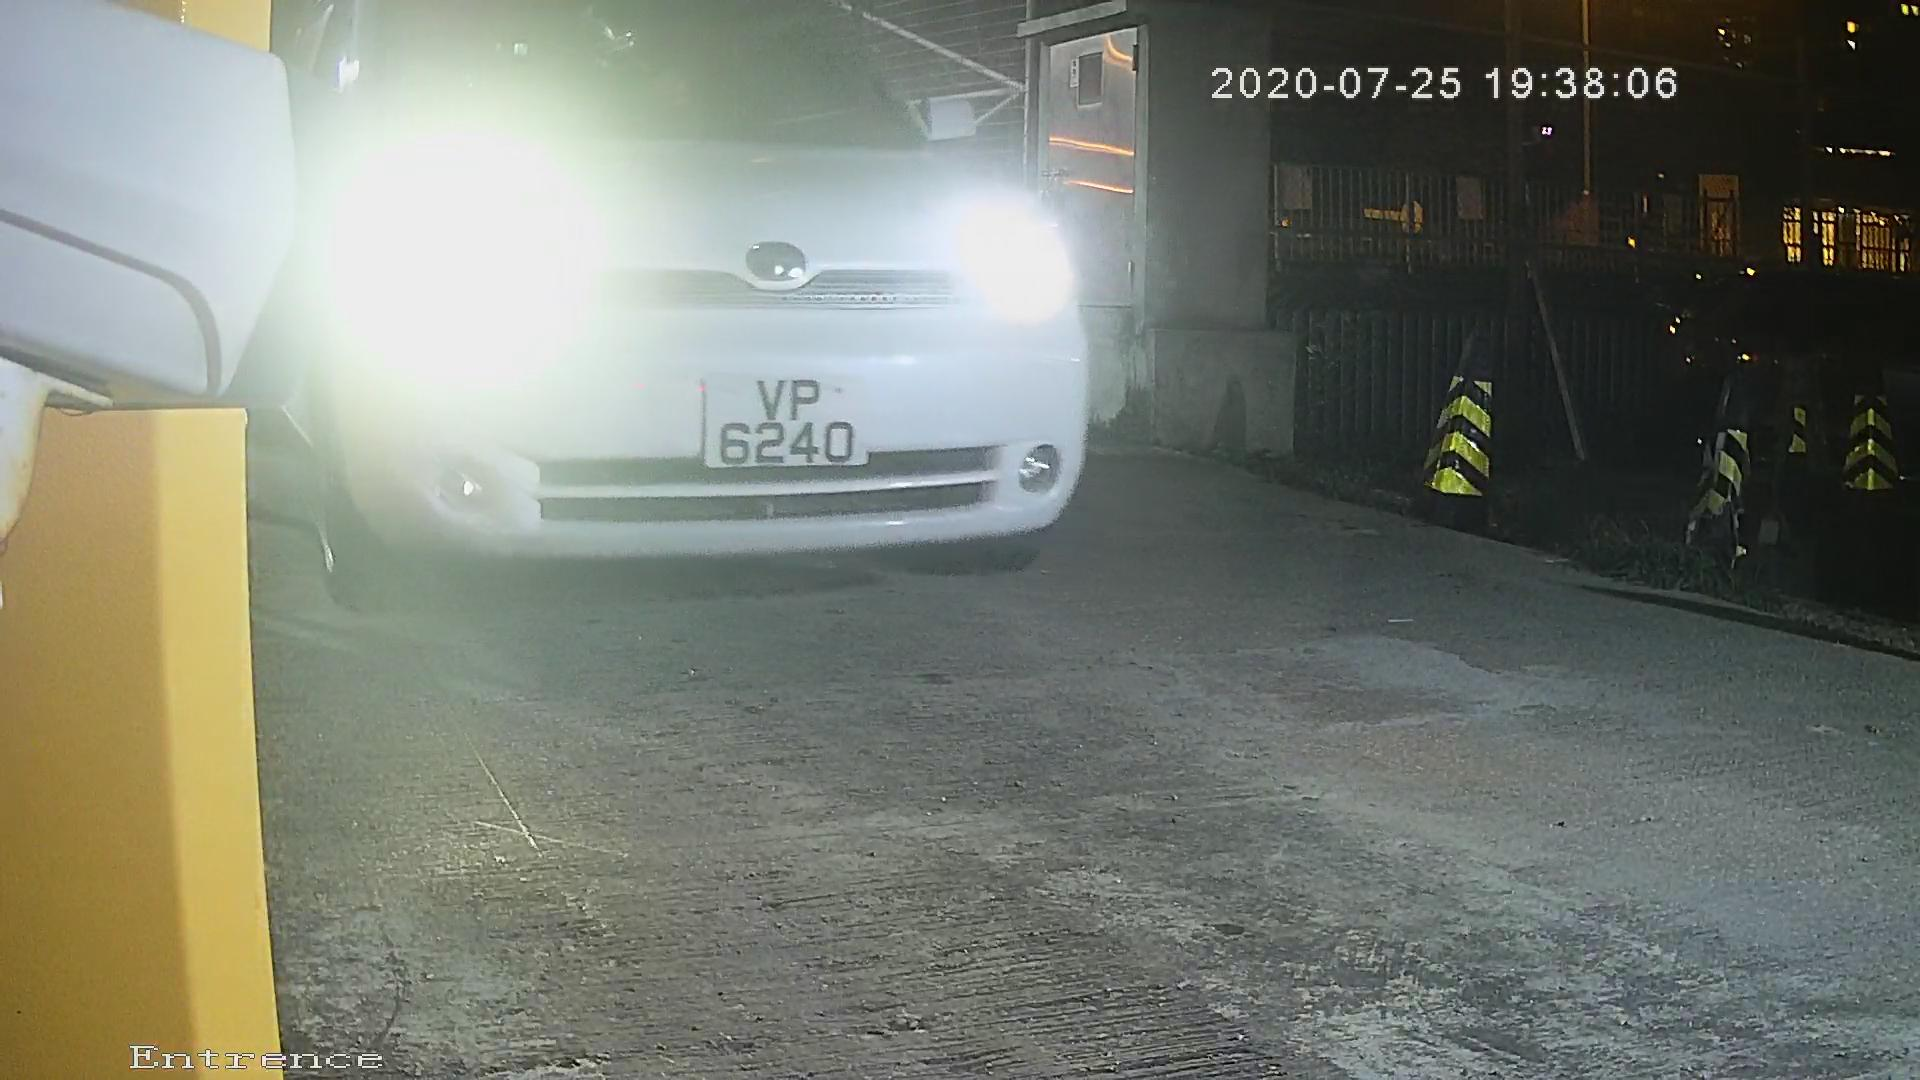Car: (35, 1, 1321, 680)
License Plate: (661, 362, 901, 492)
